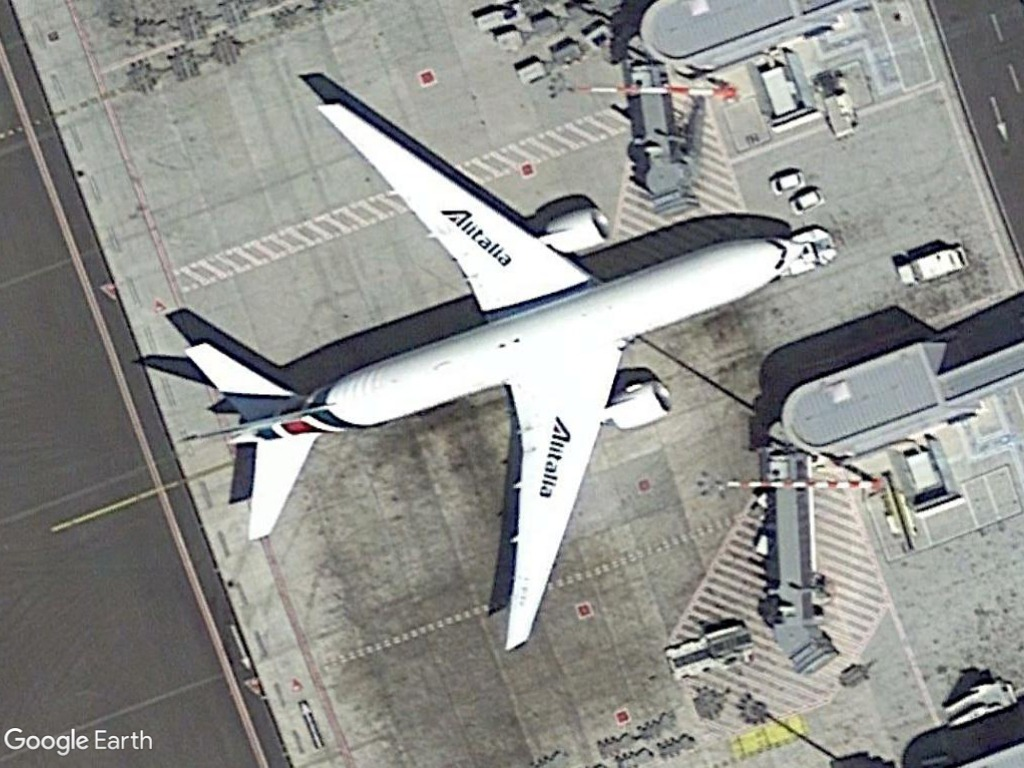airliner: (163, 92, 808, 660)
car: (784, 186, 825, 220), (764, 168, 805, 197)
stairtruck: (662, 621, 761, 683), (934, 673, 1017, 732)
